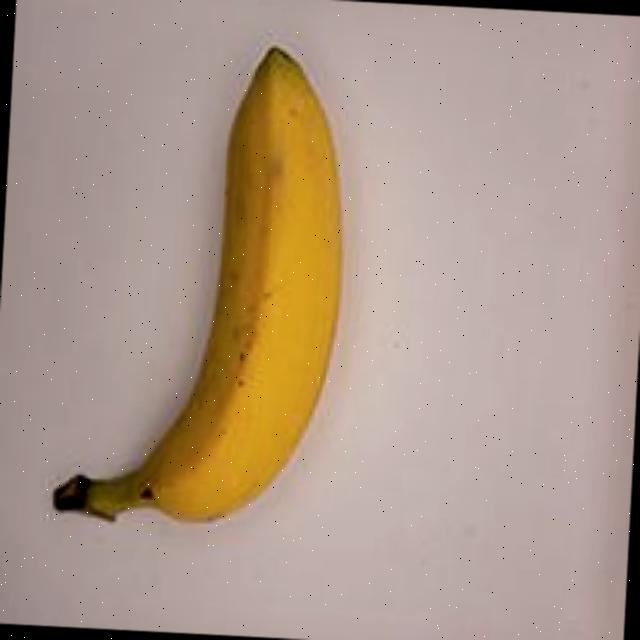Ripe: (39, 21, 367, 558)
